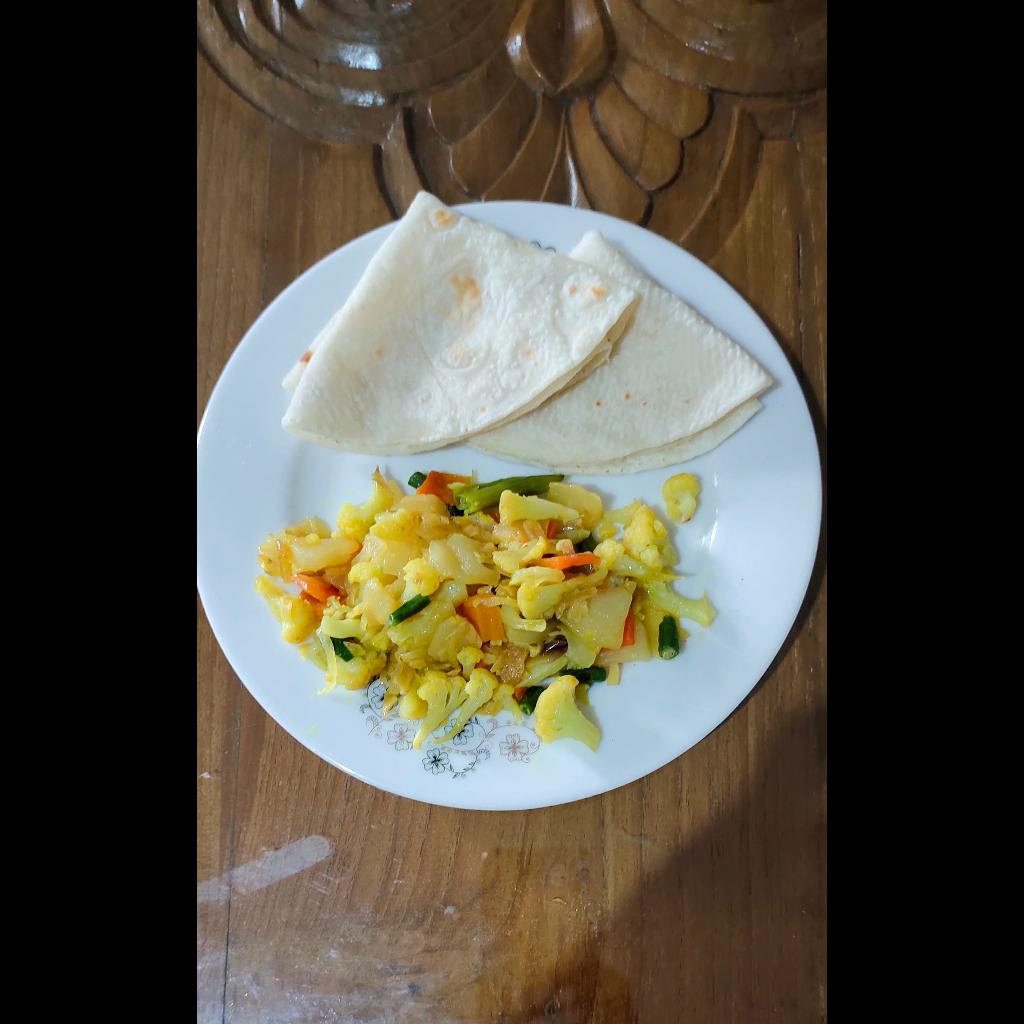ruti: (278, 190, 770, 478)
vegetable: (254, 467, 715, 753)
